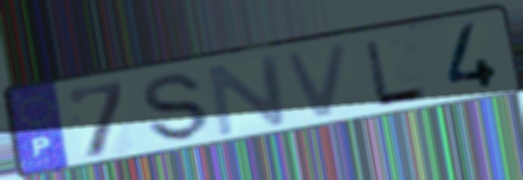4: (443, 19, 503, 93)
7: (66, 78, 129, 161)
L: (360, 38, 431, 109)
N: (204, 52, 292, 140)
S: (139, 71, 212, 143)
V: (278, 39, 353, 123)
